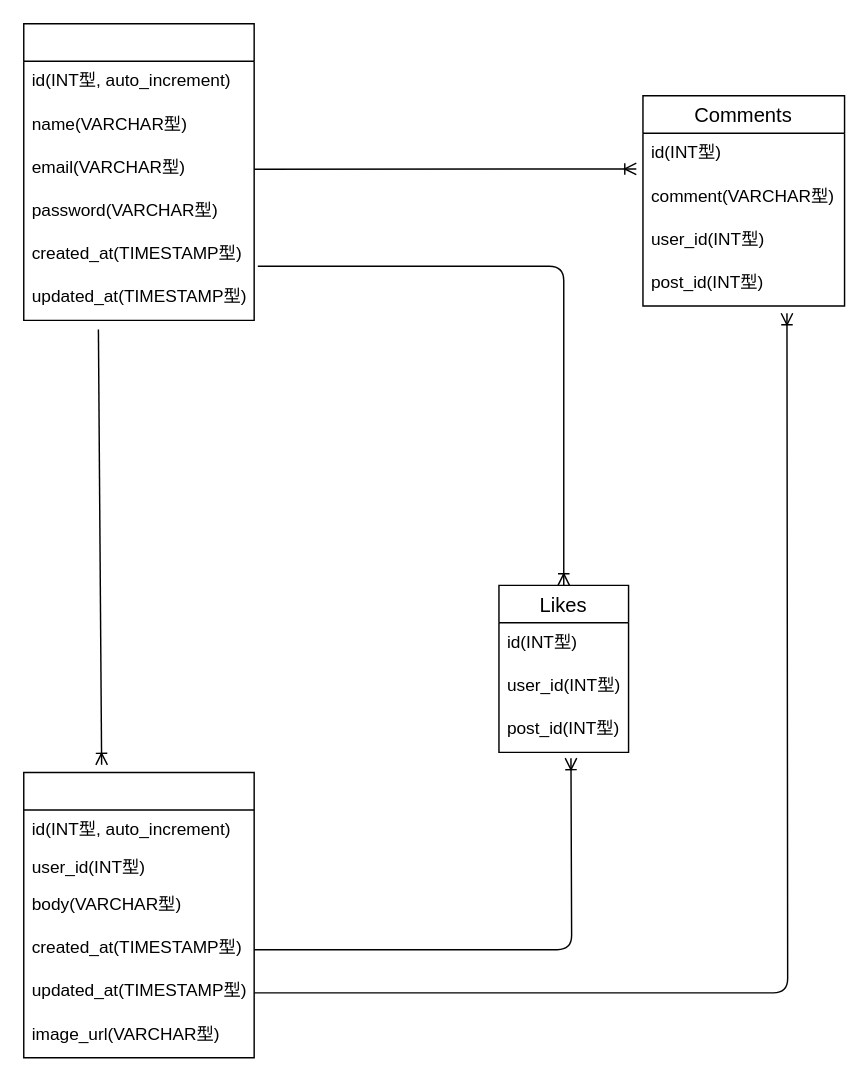
Some shapes in this 868 by 1081 pixel diagram are drawn without their labels. Here are the shapes that lost their labels. From the top down, the box of each, then its label:
(22, 22, 254, 320): Users
(22, 771, 254, 1058): Posts
